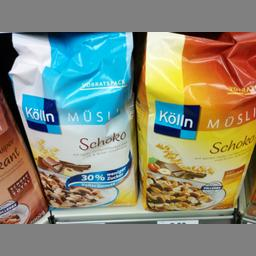cereal: (137, 47, 255, 210), (20, 38, 132, 204)
